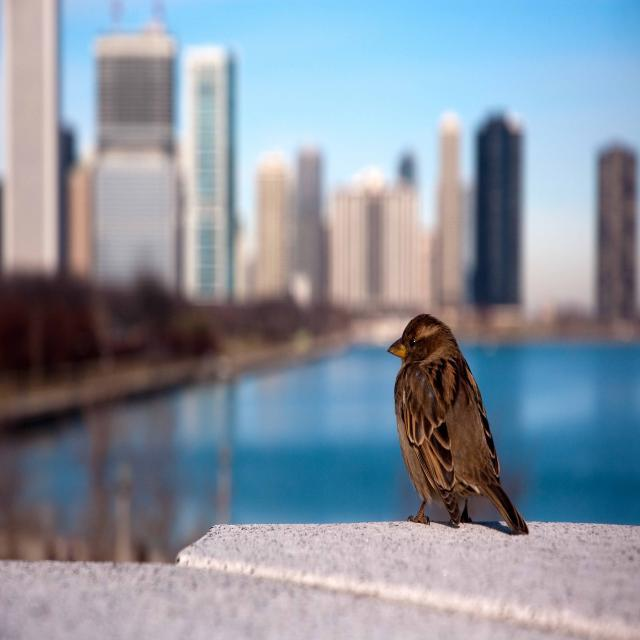bird: (385, 304, 532, 562)
